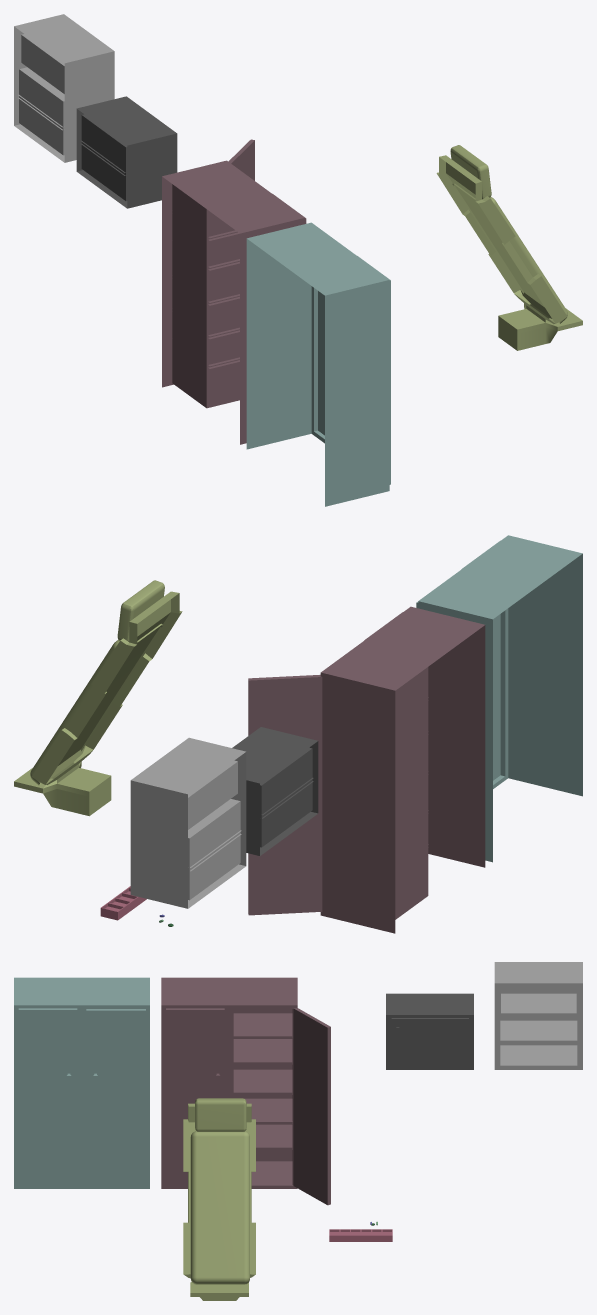
The model's file is hopital_props.fbx.
3 renders of one model, top to bottom at view 1: azimuth 30°, elevation 25°; view 2: azimuth 150°, elevation 25°; view 3: azimuth 270°, elevation 25°, orthographic. The views are drawn at different scales.
Parts seen in each view (by area): view 1: armoire_fermee, armoire_ouverte1, etagere_a_porte_transparante2, lit, etagere_a_porte_transparante1; view 2: armoire_ouverte1, armoire_fermee, etagere_a_porte_transparante2, lit, etagere_a_porte_transparante1, boite_medicaments; view 3: armoire_ouverte1, armoire_fermee, lit, etagere_a_porte_transparante2, porte_etagere_transparante, etagere_a_porte_transparante1, boite_medicaments.
Boxes of the visible parts, x1,y1,x2,y2 form: armoire_fermee: [246, 222, 390, 506]; armoire_ouverte1: [162, 139, 306, 444]; etagere_a_porte_transparante2: [14, 14, 114, 162]; lit: [436, 145, 582, 350]; etagere_a_porte_transparante1: [76, 96, 177, 208]; armoire_ouverte1: [248, 606, 485, 933]; armoire_fermee: [416, 535, 582, 862]; etagere_a_porte_transparante2: [130, 737, 246, 908]; lit: [14, 580, 182, 816]; etagere_a_porte_transparante1: [232, 727, 318, 855]; boite_medicaments: [100, 886, 146, 920]; armoire_ouverte1: [161, 977, 330, 1205]; armoire_fermee: [14, 977, 149, 1188]; lit: [183, 1098, 255, 1300]; etagere_a_porte_transparante2: [494, 962, 582, 1069]; porte_etagere_transparante: [391, 1018, 468, 1066]; etagere_a_porte_transparante1: [386, 993, 473, 1069]; boite_medicaments: [329, 1229, 392, 1241].
Size of the model in its own units: 18.26 by 11.52 by 28.78.
